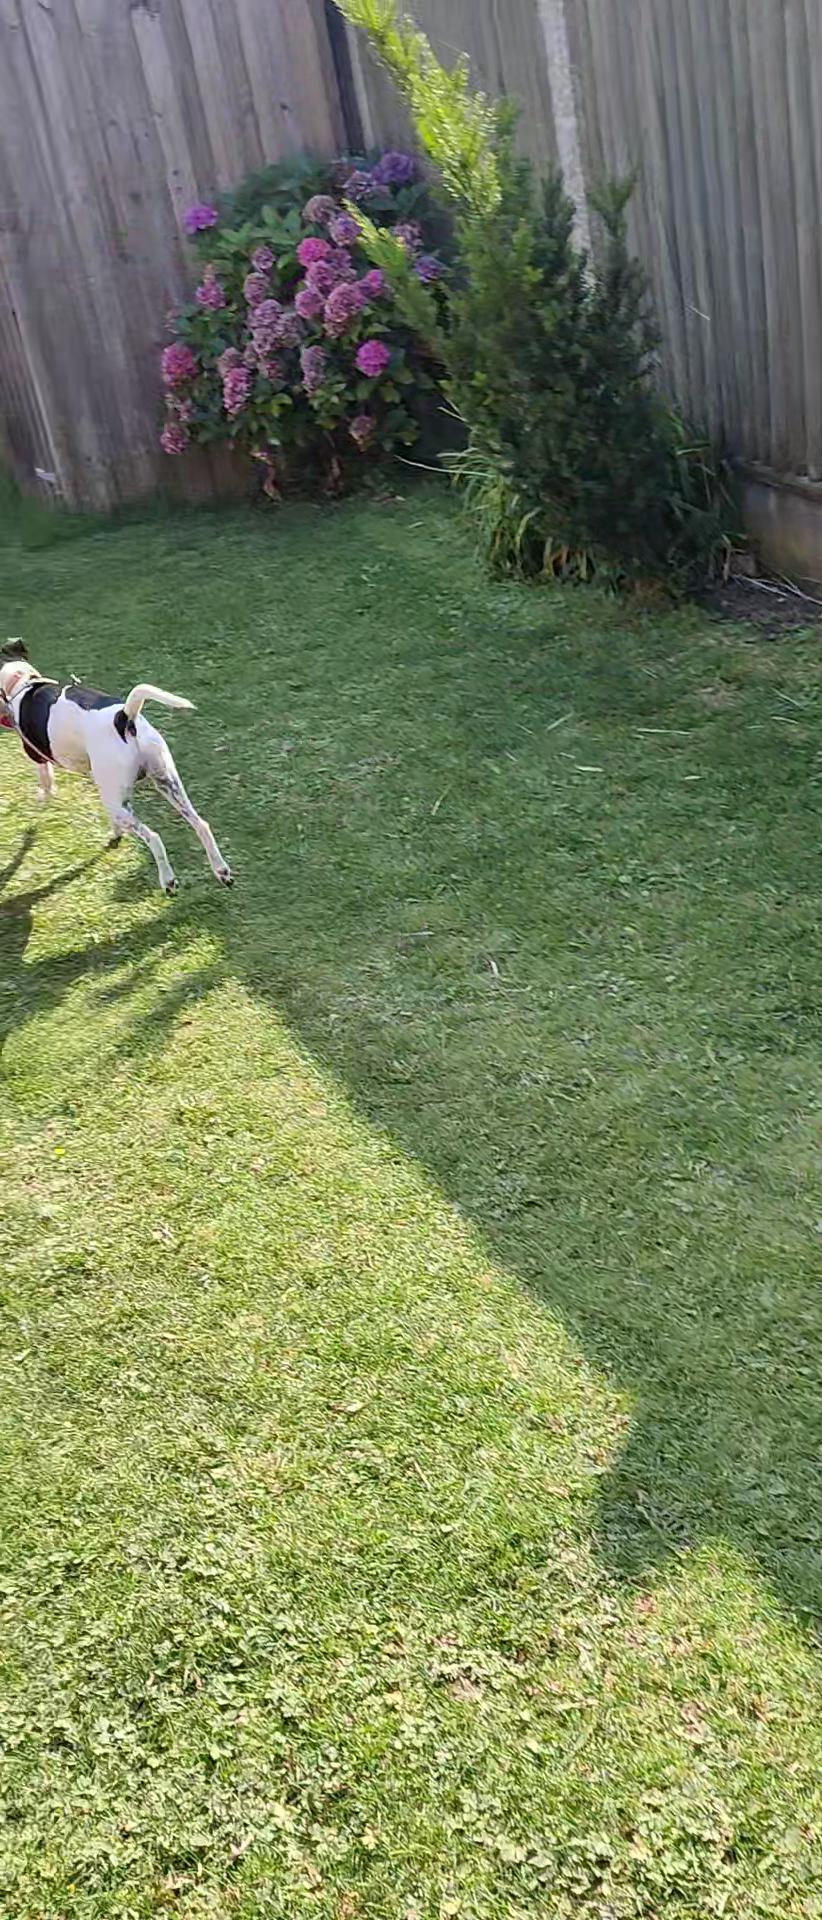Dog: (0, 624, 252, 911)
